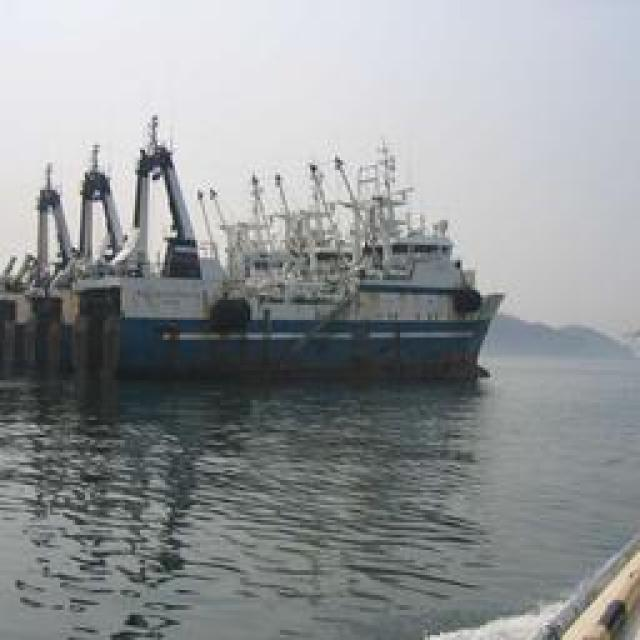CIV_Ship: (52, 106, 492, 379)
